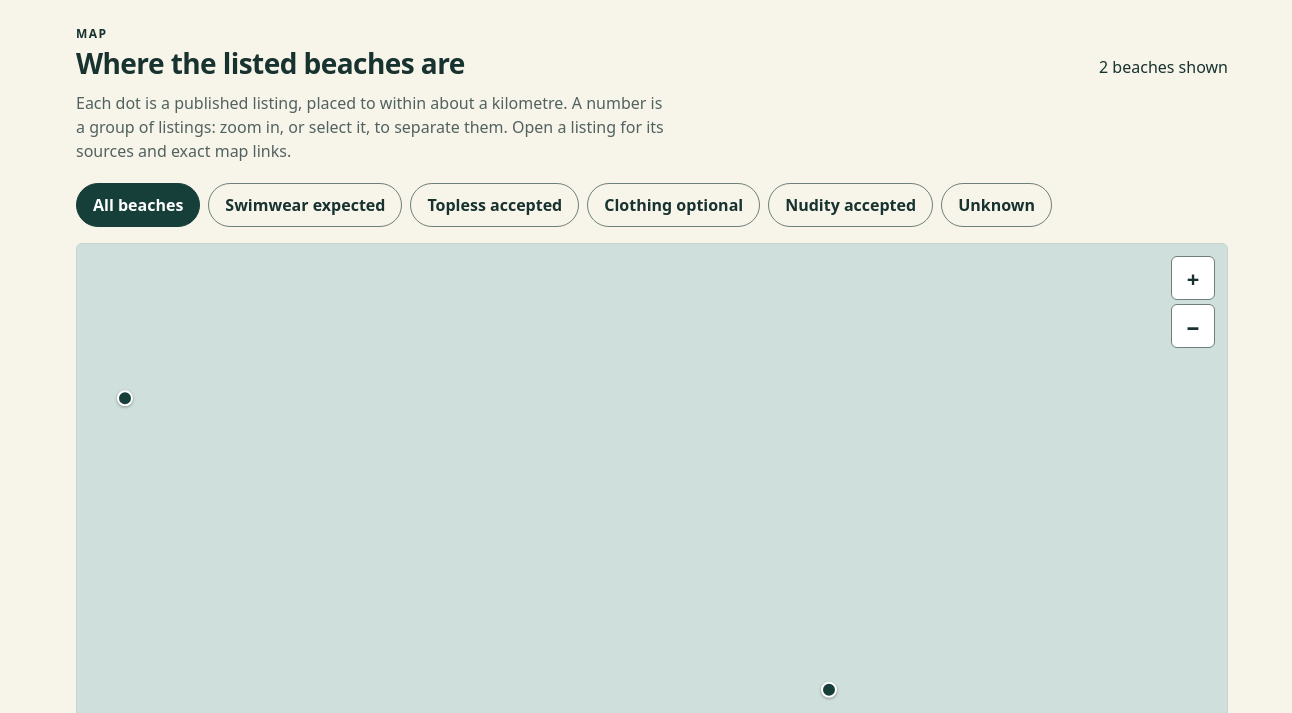
Test case: MapPage › filters the pins by dress code and keeps the filter in the address
Expected: the button named "Plaka, Naxos, Greece — Nudity accepted" is shown, [815, 676, 843, 704]
Step 1. Click the button "Clothing optional" → (674, 205), box [587, 183, 760, 227]
(page scrolled)
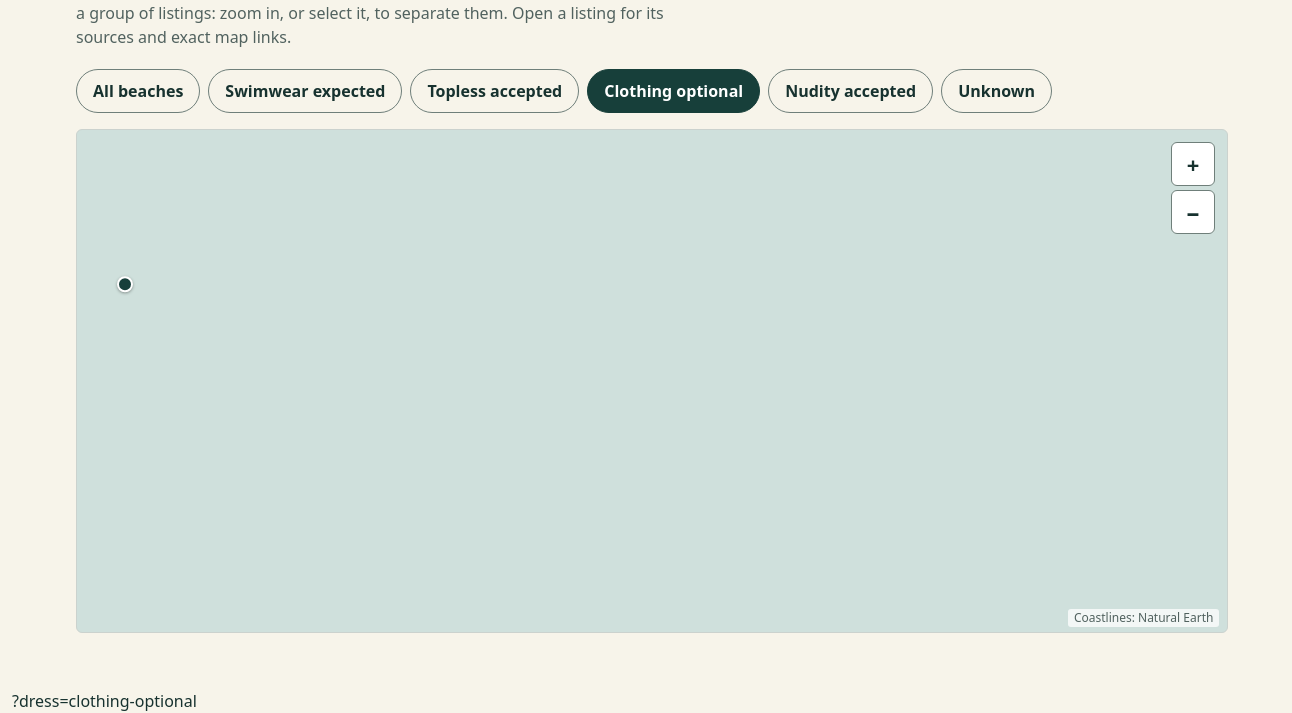
Expected: the button named "Île du Levant" is shown, [111, 270, 139, 298]
Now the text with test id "location" reads "?dress=clothing-optional", box [12, 690, 197, 712]
